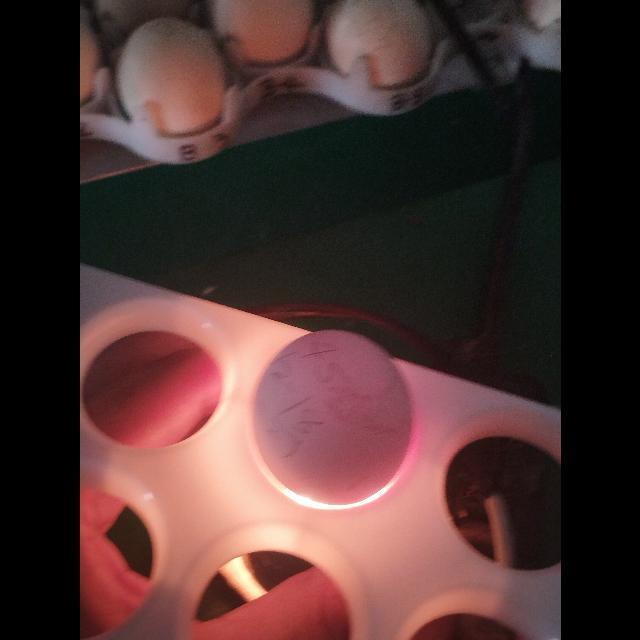Fertile: (254, 328, 414, 506)
